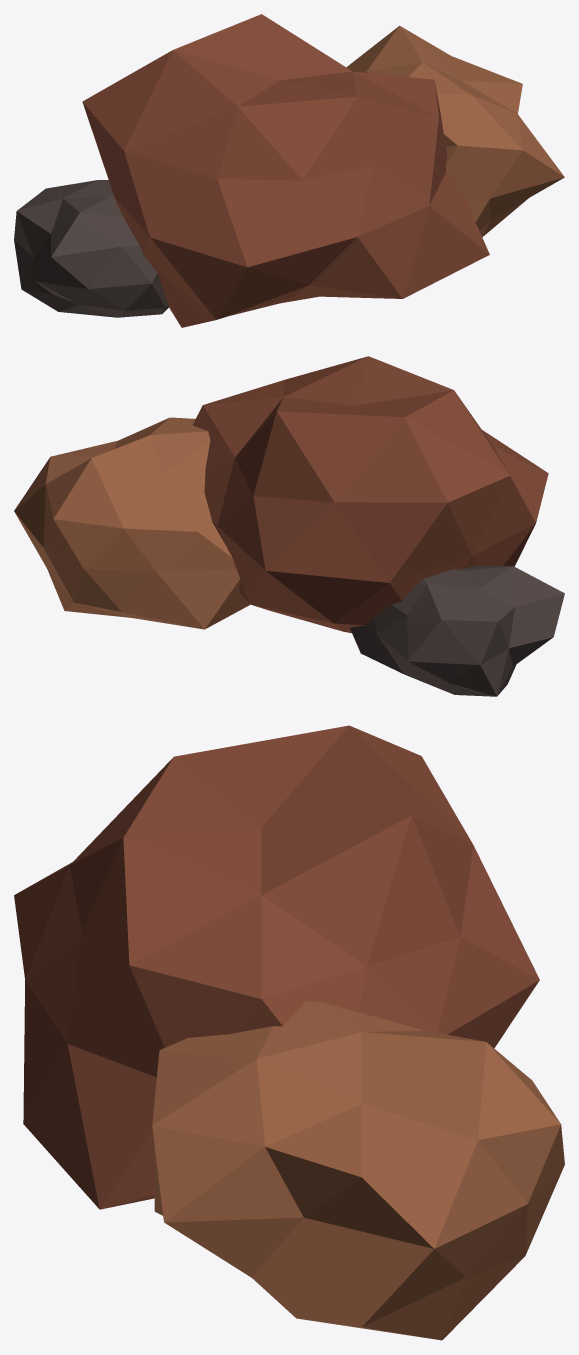
Rendered from mars_rock_cluster.glb.
The picture shows the model from 3 angles, top to bottom: view 1: azimuth 30°, elevation 25°; view 2: azimuth 150°, elevation 25°; view 3: azimuth 270°, elevation 25°; orthographic projection. The views are drawn at different scales.
Visible parts, largest first — view 1: ClusterA, ClusterB, ClusterC; view 2: ClusterA, ClusterB, ClusterC; view 3: ClusterA, ClusterB.
Boxes of the visible parts, <box> form: ClusterA: <box>82,14,489,327</box>; ClusterB: <box>346,25,564,236</box>; ClusterC: <box>14,180,168,317</box>; ClusterA: <box>193,356,548,633</box>; ClusterB: <box>14,417,250,629</box>; ClusterC: <box>350,565,564,696</box>; ClusterA: <box>14,725,539,1209</box>; ClusterB: <box>152,1001,564,1340</box>.
Bounding box in the file's own units: 2.16 × 1.02 × 1.32.
